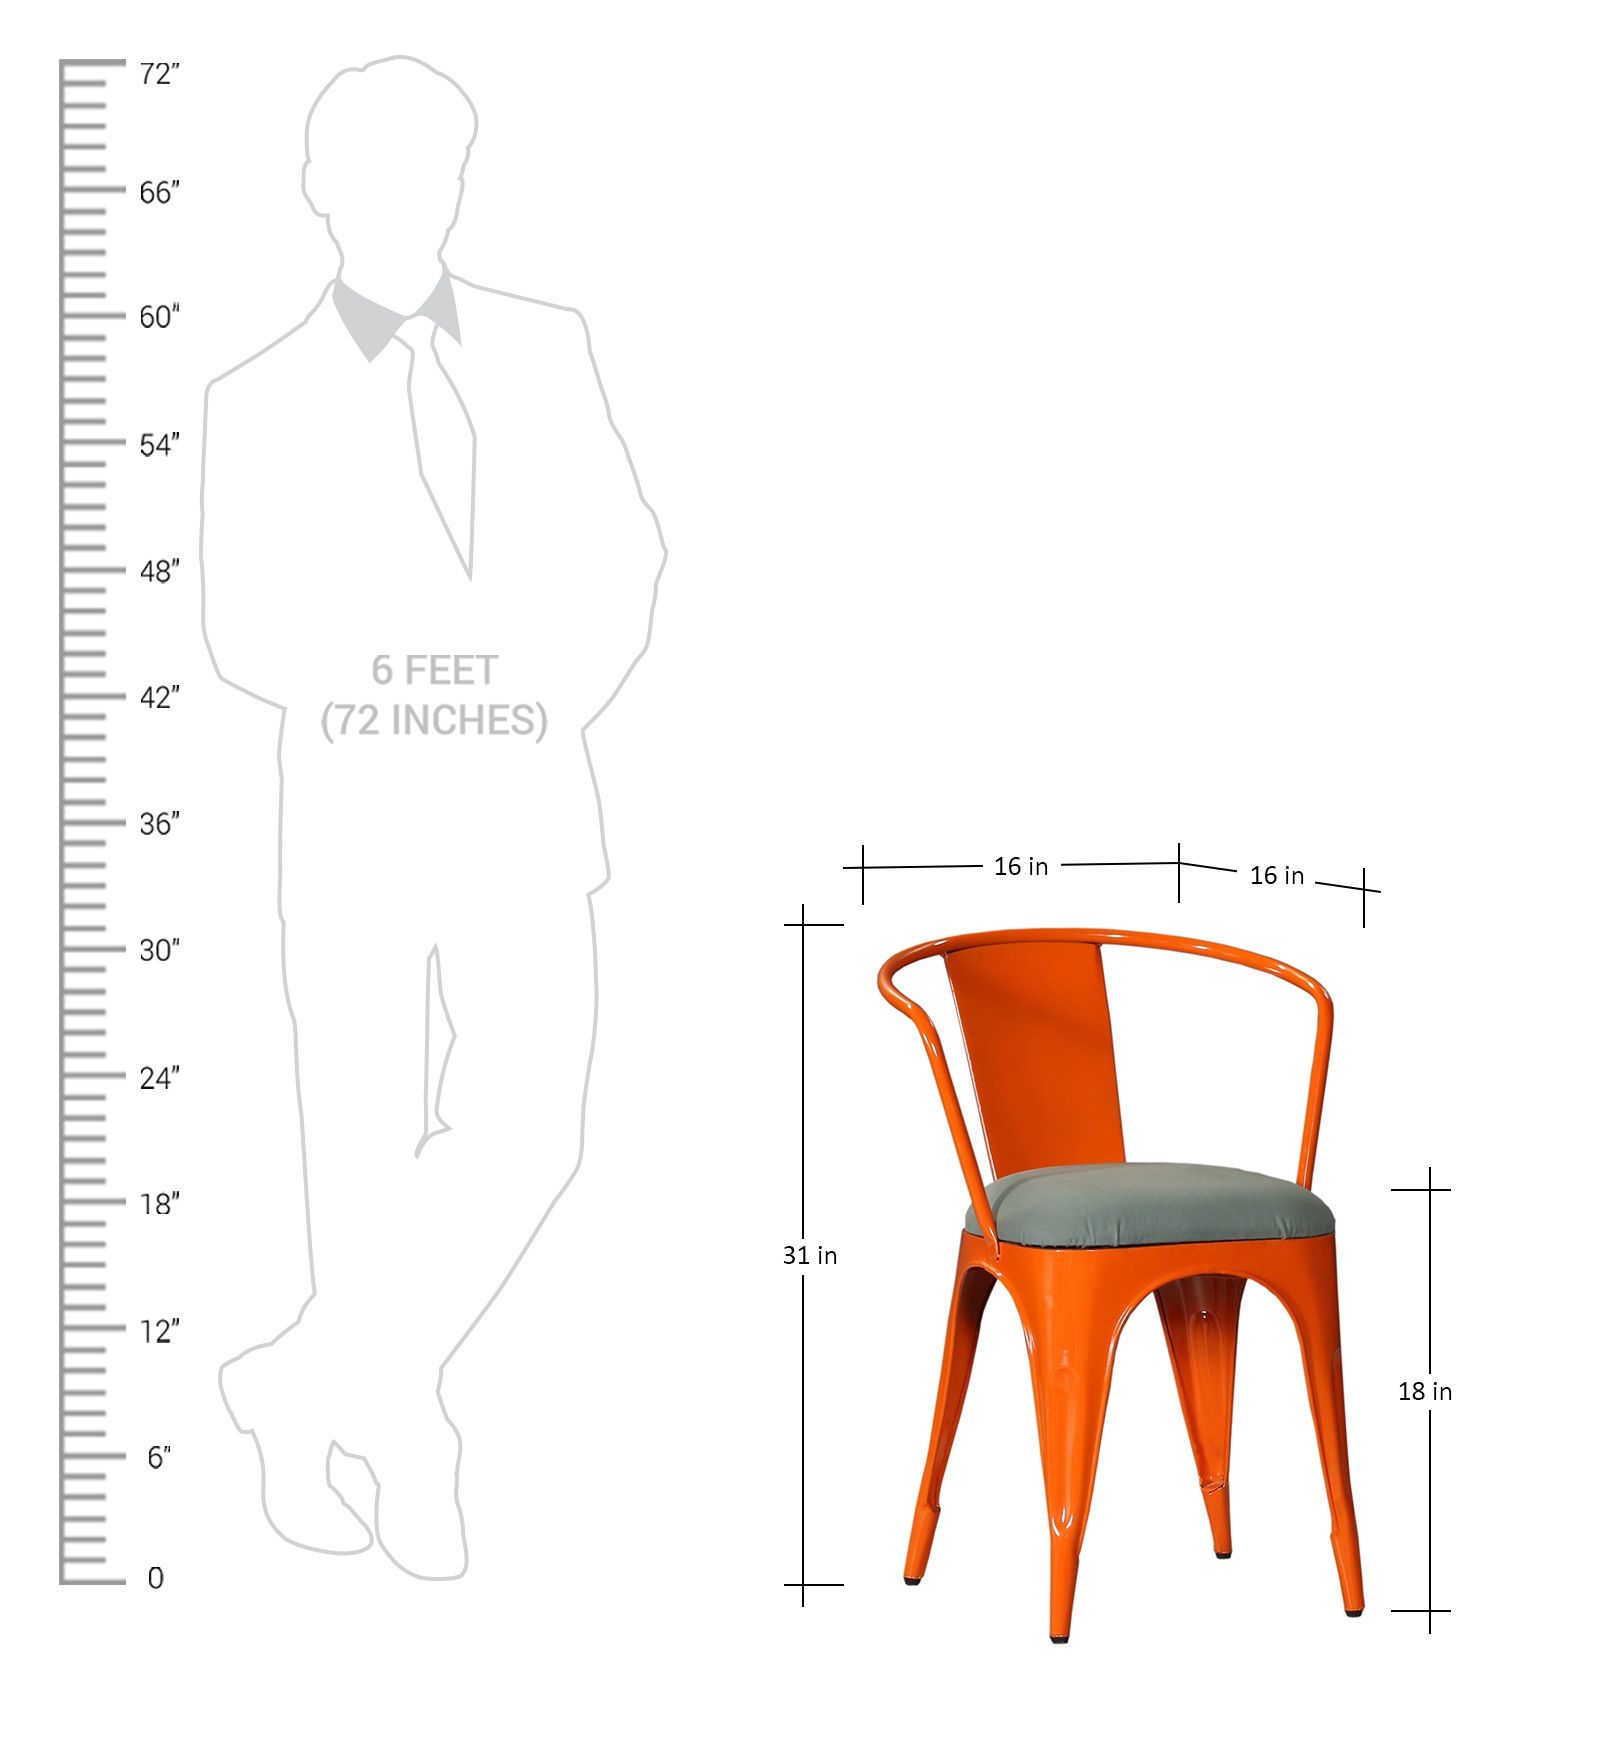Danlou Metal Chair with Cushion In Orange Colour by Bohemiana: (846, 901, 1395, 1634)
